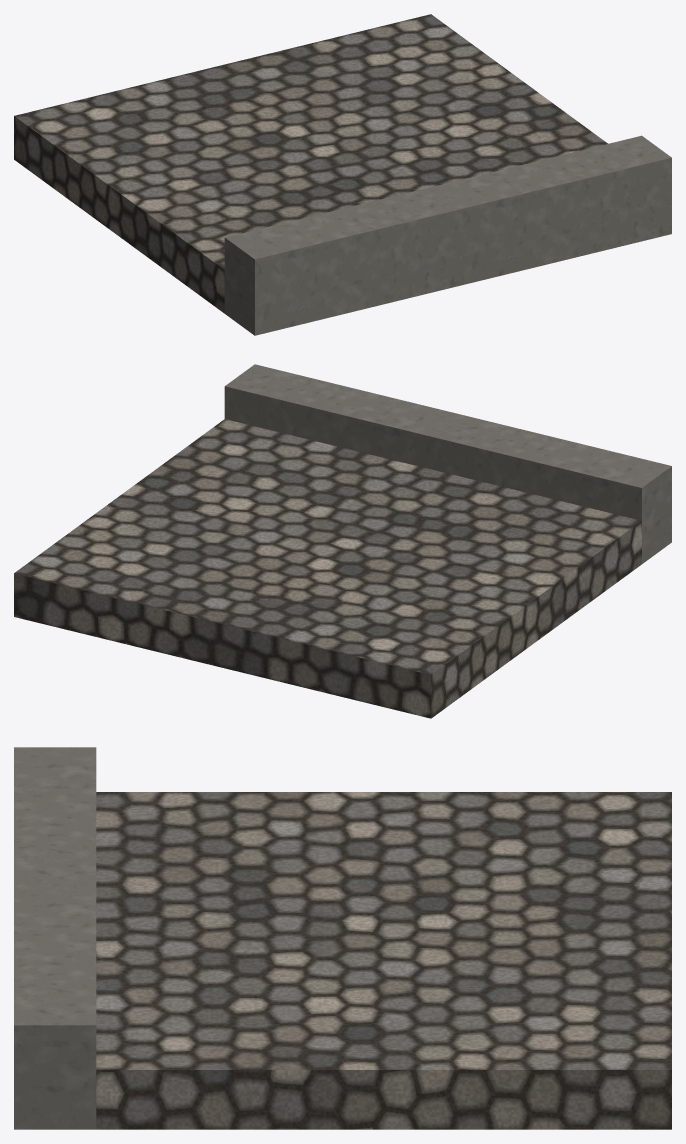
The model's file is road-curb.glb.
The picture shows the model from 3 angles, top to bottom: view 1: azimuth 30°, elevation 25°; view 2: azimuth 150°, elevation 25°; view 3: azimuth 270°, elevation 25°; orthographic projection. The views are drawn at different scales.
Visible parts, largest first — view 1: RoadCurb_cobble, RoadCurb_granite; view 2: RoadCurb_cobble, RoadCurb_granite; view 3: RoadCurb_cobble, RoadCurb_granite.
Part boxes in pixels (box(x1,y1,x2,y2)): RoadCurb_cobble: box(14, 14, 607, 313); RoadCurb_granite: box(224, 135, 671, 335); RoadCurb_cobble: box(14, 419, 641, 718); RoadCurb_granite: box(224, 364, 671, 563); RoadCurb_cobble: box(96, 792, 671, 1129); RoadCurb_granite: box(14, 747, 96, 1129).
Bounding box in the file's own units: 2 × 0.35 × 2.
2 materials, 2 textured.
